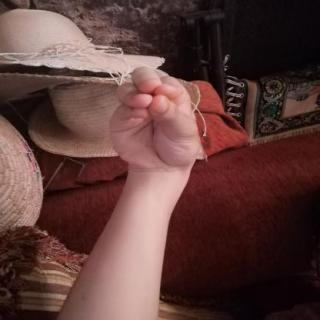HA: (93, 56, 217, 181)
